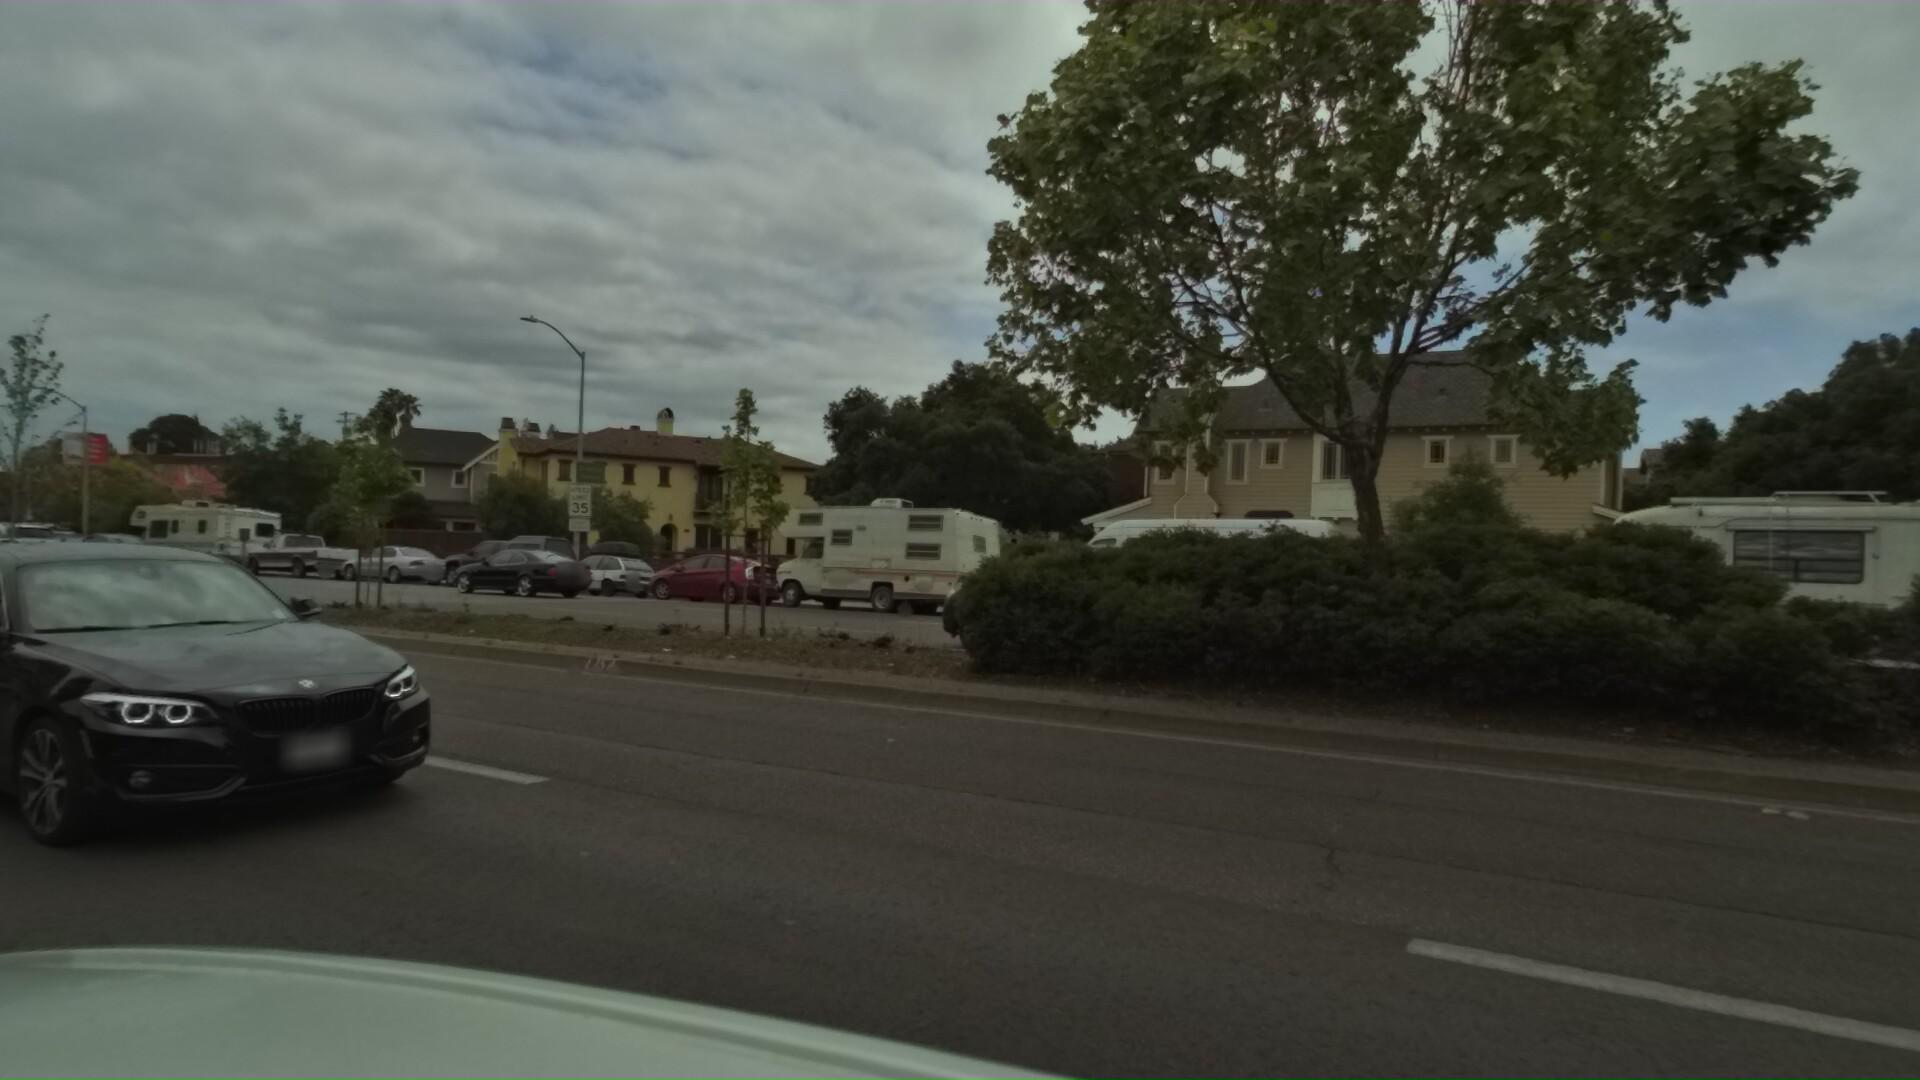car: (0, 468, 512, 865), (992, 496, 1333, 640), (870, 531, 1180, 667), (0, 488, 73, 634), (421, 524, 578, 591), (622, 541, 778, 600), (425, 541, 576, 601), (233, 516, 367, 579), (529, 533, 654, 600), (323, 534, 455, 587), (0, 508, 96, 564), (51, 527, 156, 568), (0, 512, 74, 567)
other_vehicle: (1528, 456, 1920, 713), (745, 491, 1005, 616), (115, 487, 287, 574)
